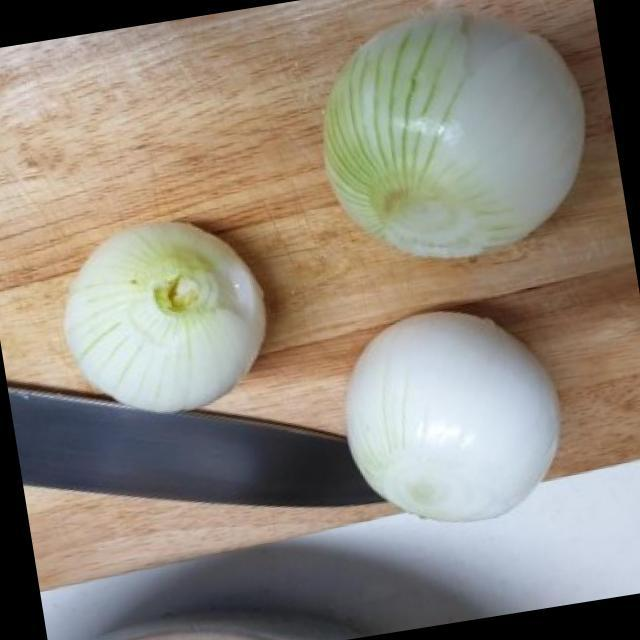Onion: (328, 9, 589, 255), (344, 312, 562, 525), (63, 221, 268, 411)
